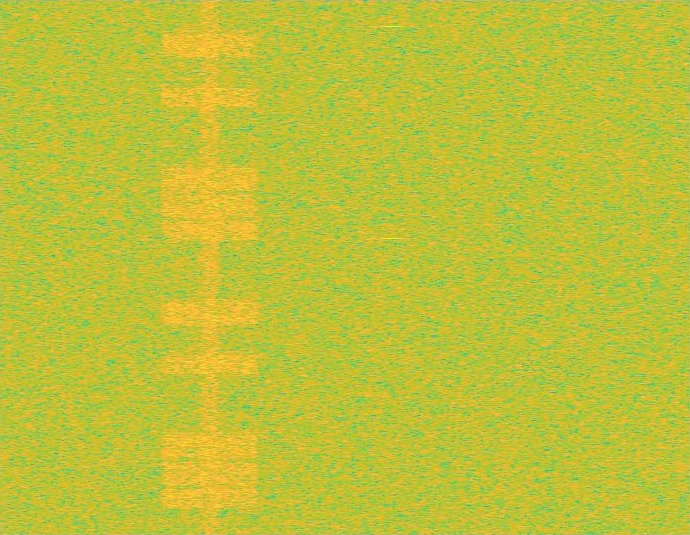DSSS: (198, 0, 221, 534)
LTE: (158, 0, 261, 534)
Radar: (386, 0, 399, 534)
